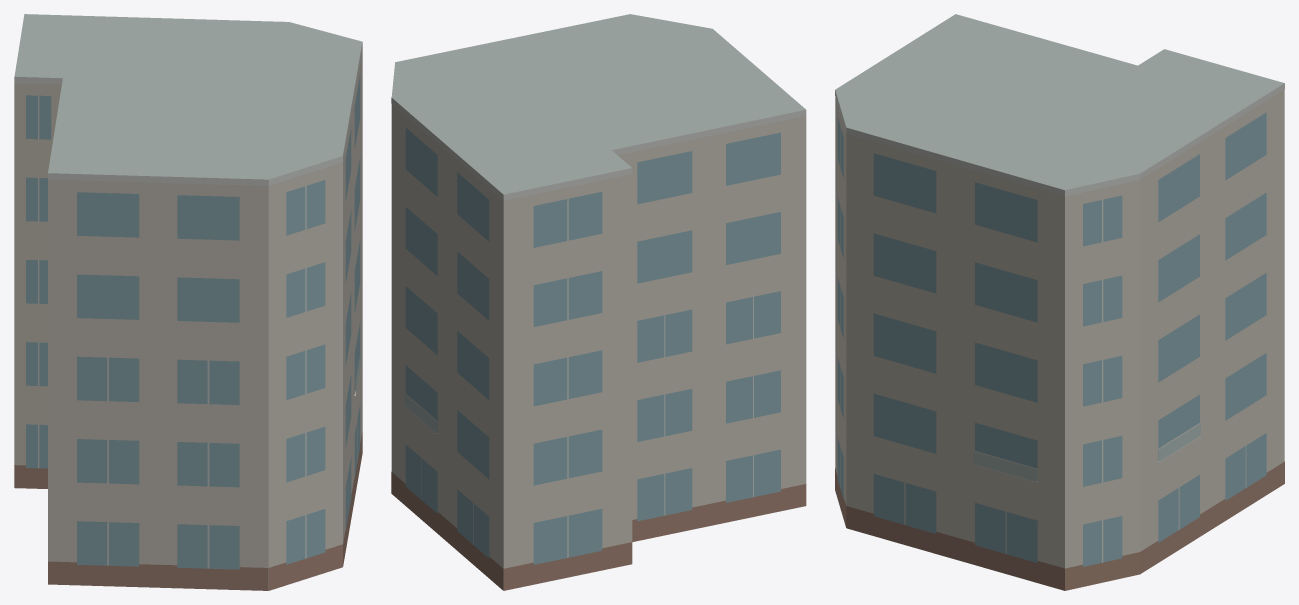
The model's file is survey-upis-32749469.glb.
3 renders of one model, left to right at view 1: azimuth 30°, elevation 25°; view 2: azimuth 150°, elevation 25°; view 3: azimuth 270°, elevation 25°, orthographic. The views are drawn at different scales.
Visible parts, largest first — view 1: survey-upis-32749469.tmp; view 2: survey-upis-32749469.tmp; view 3: survey-upis-32749469.tmp.
Part boxes in pixels (left/top/right/bottom): survey-upis-32749469.tmp: left=14, top=14, right=362, bottom=590; survey-upis-32749469.tmp: left=391, top=14, right=806, bottom=590; survey-upis-32749469.tmp: left=835, top=14, right=1284, bottom=590.
Bounding box in the file's own units: 14.91 × 15.8 × 16.08.
